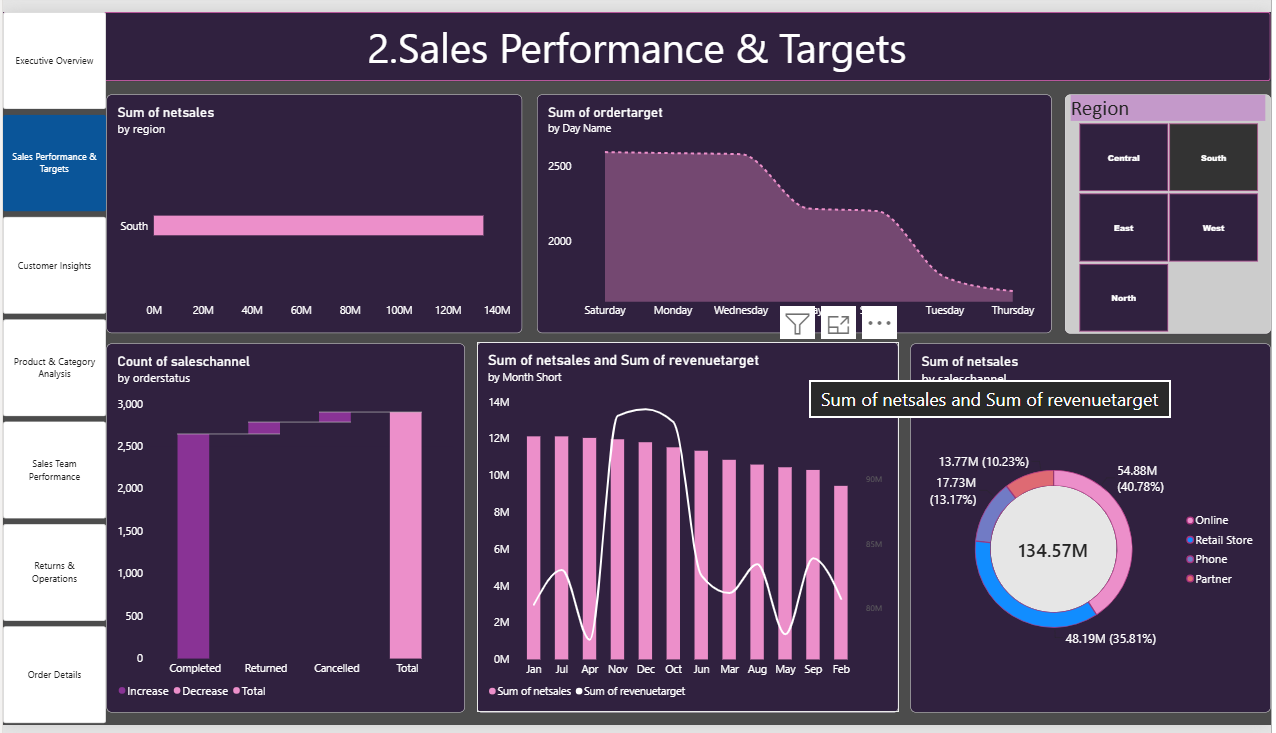

The page's visual inventory and layout, read from the dashboard file:
{"tool":"powerbi","page":{"name":"Sales Performance & Targets","canvas":[1920,1080],"ordinal":1},"visuals":[{"type":"clusteredBarChart","fields":{"Category":["Customers.region"],"Y":["Sum(Order_items.netsales)"]},"box":[156.7,124.9,629.2,361.1],"z":0},{"type":"waterfallChart","fields":{"Category":["Orders.orderstatus"],"Y":["CountNonNull(Orders.saleschannel)"]},"box":[156.7,502,542.8,558.7],"z":1000},{"type":"stackedAreaChart","fields":{"Category":["Calendar.Day Name"],"Y":["Sum(Sales_targets.ordertarget)"]},"box":[808.6,124.9,779.1,361.1],"z":2000},{"type":"donutChart","fields":{"Category":["Orders.saleschannel"],"Y":["Sum(Order_items.netsales)"]},"box":[1374.1,502,545.1,558.7],"z":3000},{"type":"slicer","fields":{"Values":["Customers.region"]},"box":[1608.1,124.9,311.9,361.9],"z":4000},{"type":"lineClusteredColumnComboChart","fields":{"Category":["Calendar.Month Short"],"Y":["Sum(Order_items.netsales)"],"Y2":["Sum(Sales_targets.revenuetarget)"]},"box":[717.7,499.7,638.2,561],"z":5000},{"type":"actionButton","box":[0,0,1919.3,104.5],"z":6000},{"type":"pageNavigator","box":[0,0,156.7,1078.9],"z":6001}]}

Visuals, with their boxes on the page's 1920x1080 design canvas (x1, y1, x2, y2). These are canvas units, not pixel positions in the 1276x733 screenshot, which may show the page scaled, cropped or inside an application window:
clusteredBarChart - Customers.region x Sum(Order_items.netsales): x1=157, y1=125, x2=786, y2=486
waterfallChart - Orders.orderstatus x CountNonNull(Orders.saleschannel): x1=157, y1=502, x2=700, y2=1061
stackedAreaChart - Calendar.Day Name x Sum(Sales_targets.ordertarget): x1=809, y1=125, x2=1588, y2=486
donutChart - Orders.saleschannel x Sum(Order_items.netsales): x1=1374, y1=502, x2=1919, y2=1061
slicer - Customers.region: x1=1608, y1=125, x2=1920, y2=487
lineClusteredColumnComboChart - Calendar.Month Short x Sum(Order_items.netsales): x1=718, y1=500, x2=1356, y2=1061
actionButton: x1=0, y1=0, x2=1919, y2=104
pageNavigator: x1=0, y1=0, x2=157, y2=1079
